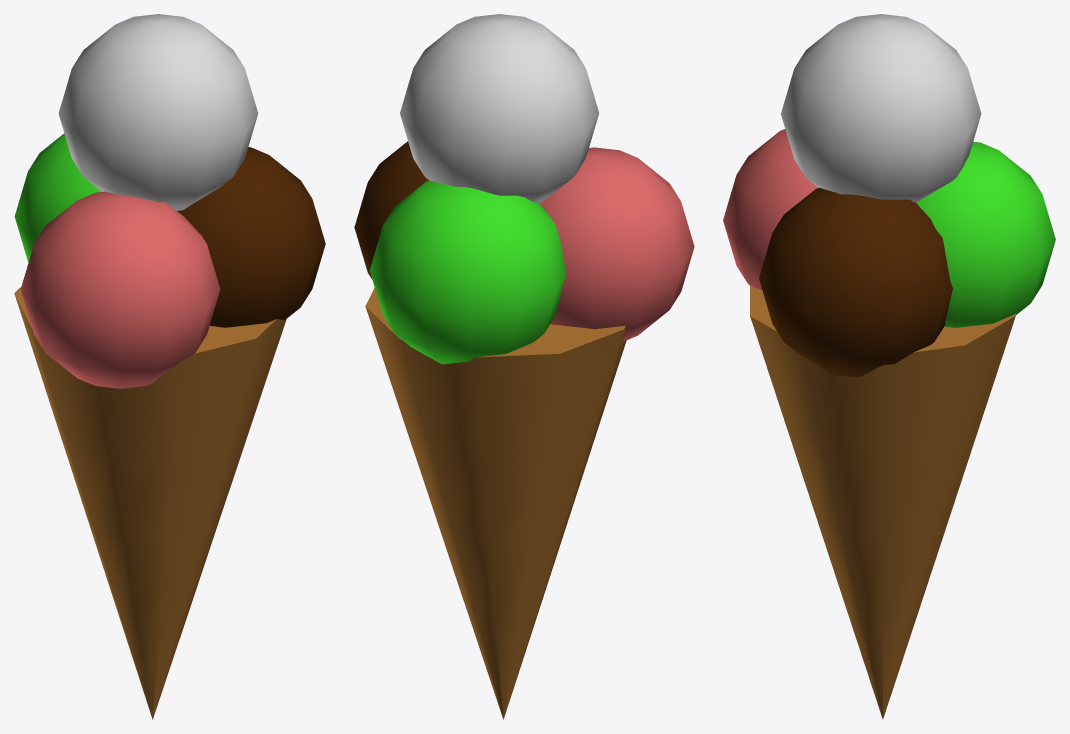
Rendered from icecreamcone.FBX.
The picture shows the model from 3 angles, left to right: view 1: azimuth 30°, elevation 25°; view 2: azimuth 150°, elevation 25°; view 3: azimuth 270°, elevation 25°; orthographic projection.
Visible parts, largest first — view 1: Cone001, Sphere003, Sphere004, Sphere001, Sphere002; view 2: Cone001, Sphere004, Sphere002, Sphere003, Sphere001; view 3: Cone001, Sphere004, Sphere001, Sphere002, Sphere003.
Boxes of the visible parts, <box> form: Cone001: <box>14,287,286,719</box>; Sphere003: <box>20,191,220,388</box>; Sphere004: <box>58,14,258,210</box>; Sphere001: <box>177,147,325,327</box>; Sphere002: <box>14,133,101,262</box>; Cone001: <box>365,288,626,719</box>; Sphere004: <box>400,14,599,203</box>; Sphere002: <box>369,180,566,364</box>; Sphere003: <box>539,147,694,341</box>; Sphere001: <box>354,141,428,279</box>; Cone001: <box>750,285,1015,719</box>; Sphere004: <box>781,14,981,202</box>; Sphere001: <box>759,188,952,377</box>; Sphere002: <box>916,141,1055,327</box>; Sphere003: <box>723,129,818,290</box>.
Size of the model in its own units: 36.84 by 82.78 by 35.71.
